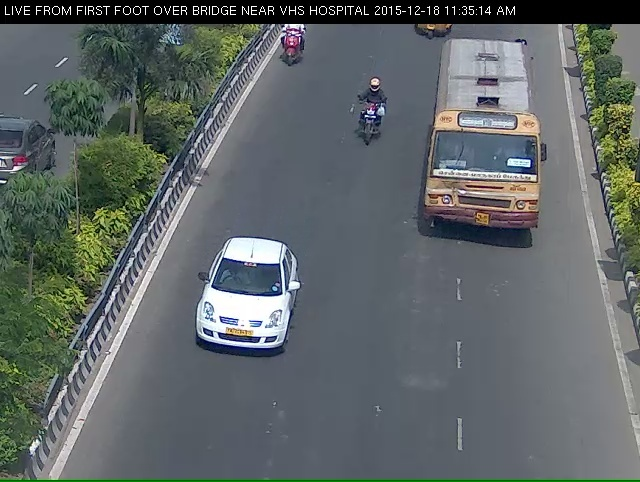Bus: (428, 57, 544, 255)
Car: (195, 244, 294, 380), (411, 19, 463, 44)
Person: (354, 85, 389, 163), (272, 26, 310, 76)
